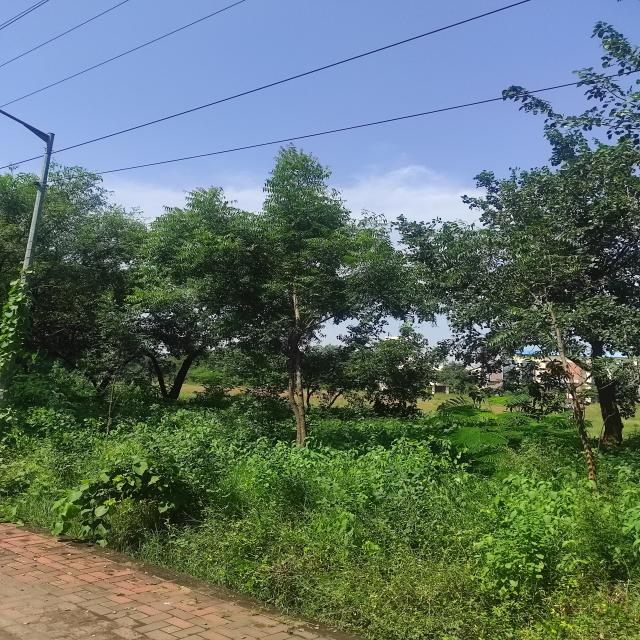Devakanchan tree: (474, 165, 640, 433)
Neem Tree: (141, 179, 405, 426), (52, 215, 110, 402)
